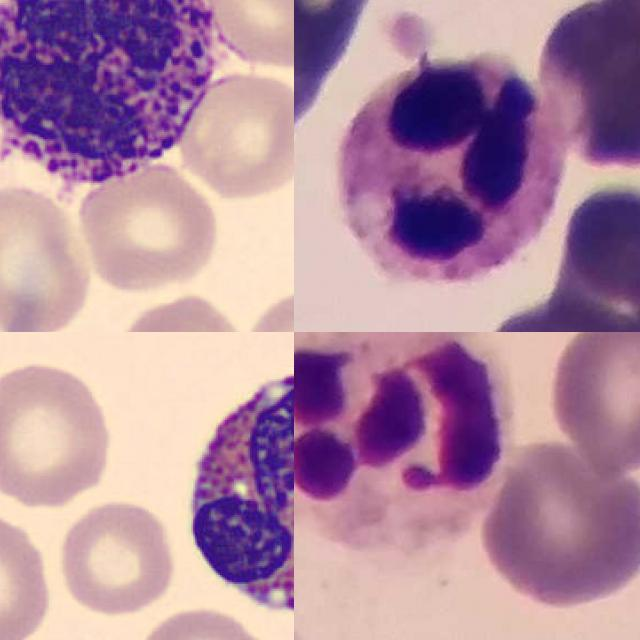Basophil: (0, 0, 240, 207)
Eosinophil: (171, 351, 294, 631)
Neutrophil: (338, 55, 562, 284), (294, 332, 509, 560)
RBC: (73, 158, 223, 296), (0, 356, 116, 511), (54, 496, 179, 621), (178, 70, 294, 202), (0, 181, 96, 332), (0, 511, 58, 640), (196, 0, 294, 72), (110, 289, 251, 332), (0, 592, 117, 640), (132, 603, 276, 640), (240, 283, 294, 332)
